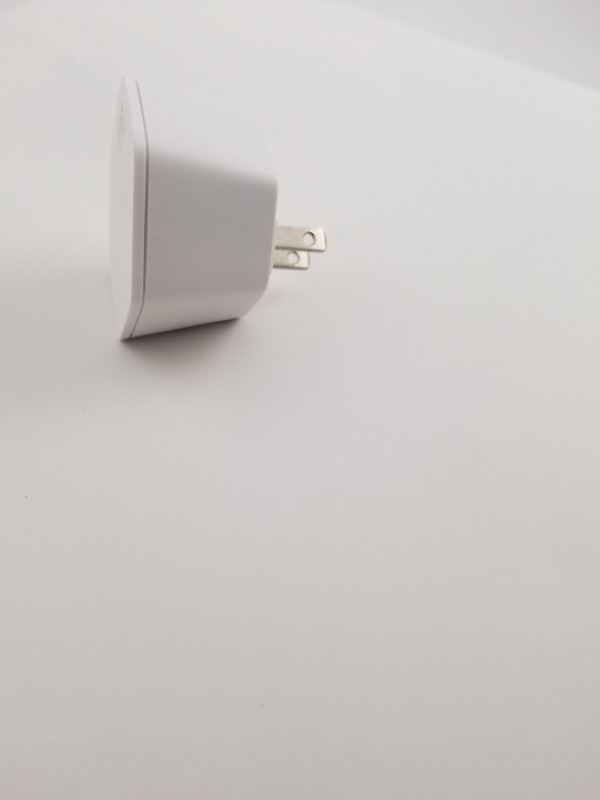pod: (107, 71, 335, 349)
